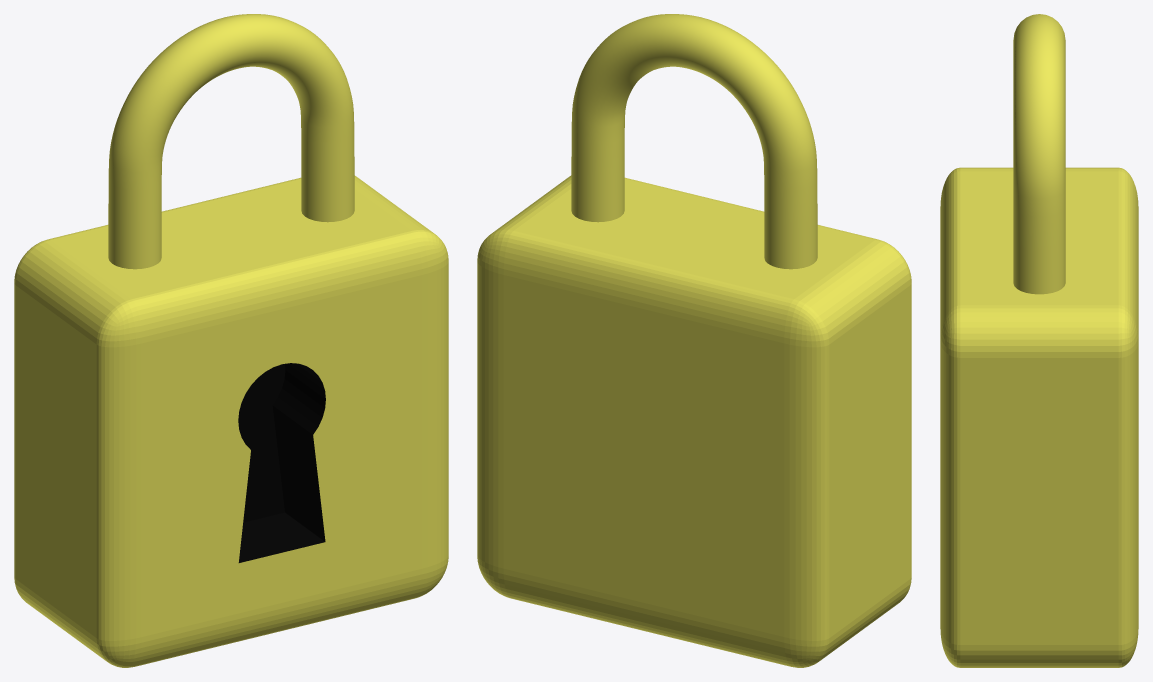
Rendered from Lock.fbx.
The picture shows the model from 3 angles, left to right: view 1: azimuth 30°, elevation 25°; view 2: azimuth 150°, elevation 25°; view 3: azimuth 270°, elevation 25°; orthographic projection. The views are drawn at different scales.
Visible parts, largest first — view 1: Cube, Torus; view 2: Cube, Torus; view 3: Cube, Torus.
Part boxes in pixels (<box>): Cube: <box>14,175,448,667</box>; Torus: <box>108,14,354,269</box>; Cube: <box>477,175,911,667</box>; Torus: <box>571,14,817,269</box>; Cube: <box>940,167,1138,667</box>; Torus: <box>1013,14,1065,294</box>.
Size of the model in its own units: 400 by 636 by 200.
